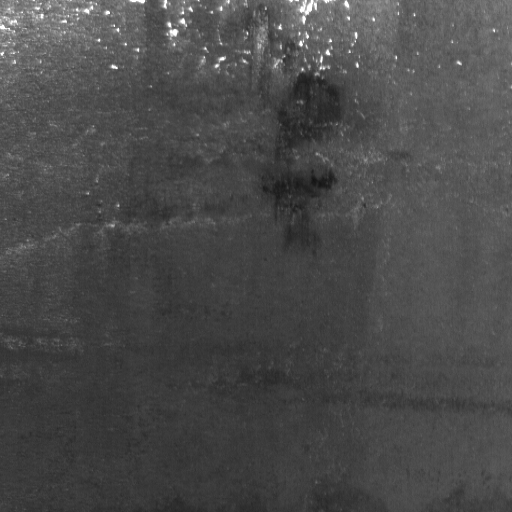jiaozhigunyin: (273, 71, 348, 150)
